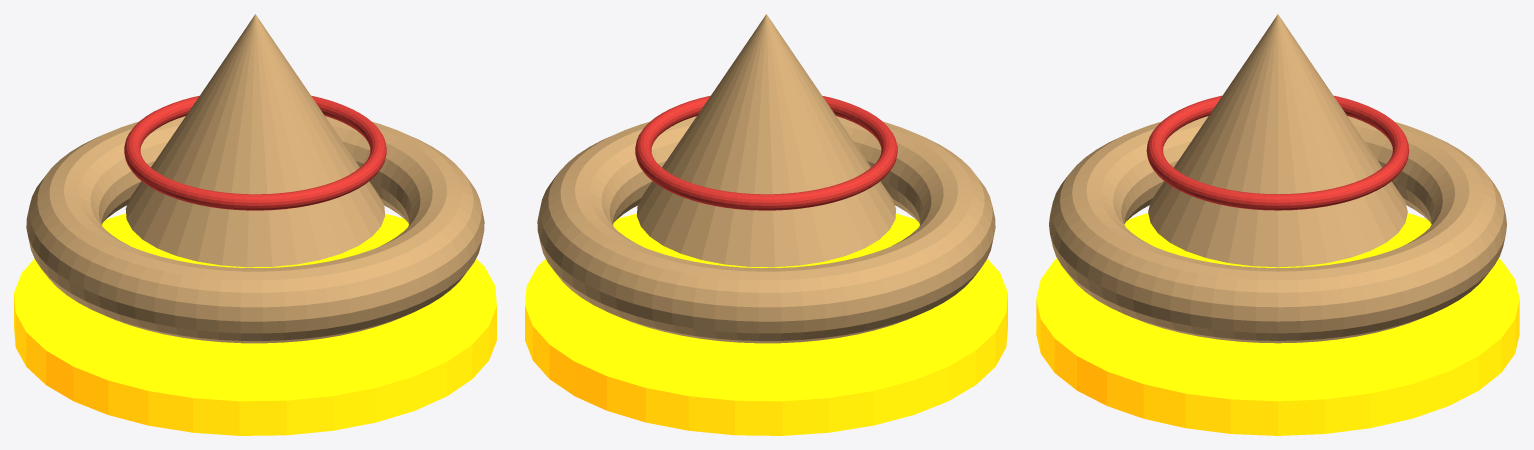
The model's file is spanish_sombrero.glb.
3 renders of one model, left to right at view 1: azimuth 30°, elevation 25°; view 2: azimuth 150°, elevation 25°; view 3: azimuth 270°, elevation 25°, orthographic.
Parts seen in each view (by area): view 1: 11_09_Popular_Spanish_Sombrero_part_01, 11_09_Popular_Spanish_Sombrero_ROOT_base, 11_09_Popular_Spanish_Sombrero_part_02, 11_09_Popular_Spanish_Sombrero_part_03; view 2: 11_09_Popular_Spanish_Sombrero_part_01, 11_09_Popular_Spanish_Sombrero_ROOT_base, 11_09_Popular_Spanish_Sombrero_part_02, 11_09_Popular_Spanish_Sombrero_part_03; view 3: 11_09_Popular_Spanish_Sombrero_part_01, 11_09_Popular_Spanish_Sombrero_ROOT_base, 11_09_Popular_Spanish_Sombrero_part_02, 11_09_Popular_Spanish_Sombrero_part_03.
Boxes of the visible parts, <box> form: 11_09_Popular_Spanish_Sombrero_part_01: <box>26,116,484,343</box>; 11_09_Popular_Spanish_Sombrero_ROOT_base: <box>14,213,496,435</box>; 11_09_Popular_Spanish_Sombrero_part_02: <box>125,14,385,267</box>; 11_09_Popular_Spanish_Sombrero_part_03: <box>124,95,386,210</box>; 11_09_Popular_Spanish_Sombrero_part_01: <box>537,116,995,343</box>; 11_09_Popular_Spanish_Sombrero_ROOT_base: <box>525,213,1007,435</box>; 11_09_Popular_Spanish_Sombrero_part_02: <box>636,14,896,267</box>; 11_09_Popular_Spanish_Sombrero_part_03: <box>635,95,897,210</box>; 11_09_Popular_Spanish_Sombrero_part_01: <box>1049,116,1506,343</box>; 11_09_Popular_Spanish_Sombrero_ROOT_base: <box>1036,213,1519,435</box>; 11_09_Popular_Spanish_Sombrero_part_02: <box>1148,14,1407,267</box>; 11_09_Popular_Spanish_Sombrero_part_03: <box>1146,95,1409,210</box>.
Bounding box in the file's own units: 0.76 × 0.5545 × 0.76.
